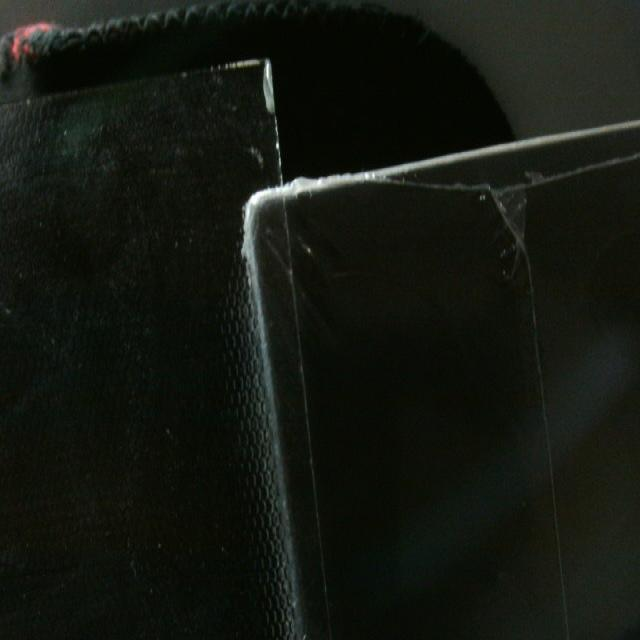edge_chip: (254, 47, 294, 143)
